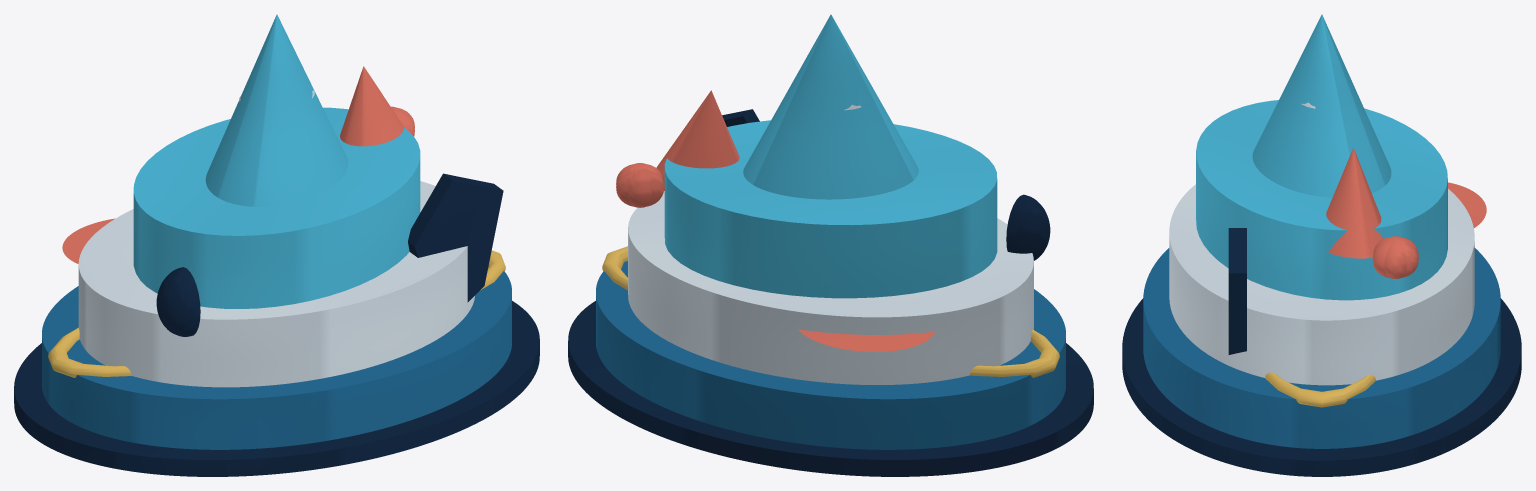
Rendered from 1158_海底两万里_托列斯海峡.glb.
The picture shows the model from 3 angles, left to right: view 1: azimuth 30°, elevation 25°; view 2: azimuth 150°, elevation 25°; view 3: azimuth 270°, elevation 25°; orthographic projection. The views are drawn at different scales.
Parts seen in each view (by area): view 1: card_1158; view 2: card_1158; view 3: card_1158.
Part boxes in pixels (box(x1,y1,x2,y2)): card_1158: box(14, 14, 539, 476); card_1158: box(568, 14, 1093, 476); card_1158: box(1122, 14, 1521, 476).
Size of the model in its own units: 1.38 by 1 by 1.03.
